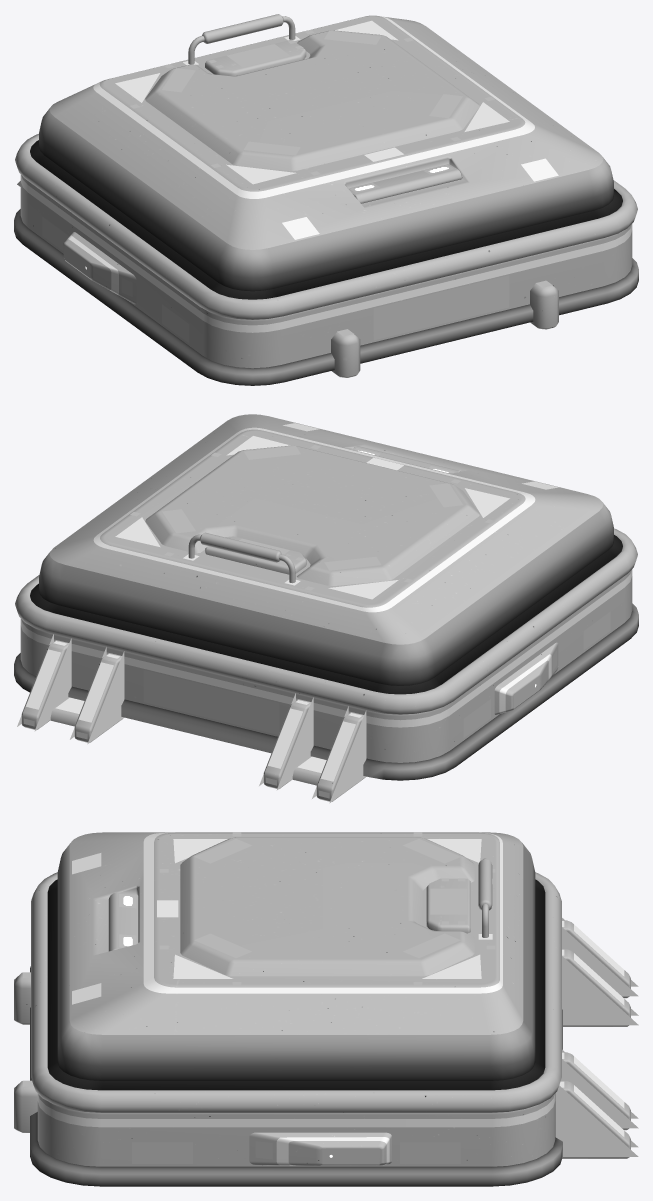
Rendered from SM_Construction_2_Merged.fbx.
3 renders of one model, top to bottom at view 1: azimuth 30°, elevation 25°; view 2: azimuth 150°, elevation 25°; view 3: azimuth 270°, elevation 25°, orthographic. The views are drawn at different scales.
Parts seen in each view (by area): view 1: SM_Construction_2_Merged_LOD0; view 2: SM_Construction_2_Merged_LOD0; view 3: SM_Construction_2_Merged_LOD0.
Part boxes in pixels (x1,y1,x2,y2): SM_Construction_2_Merged_LOD0: (14,14,638,385); SM_Construction_2_Merged_LOD0: (14,414,638,803); SM_Construction_2_Merged_LOD0: (14,832,638,1186).
Bounding box in the file's own units: 393 × 425 × 147.
